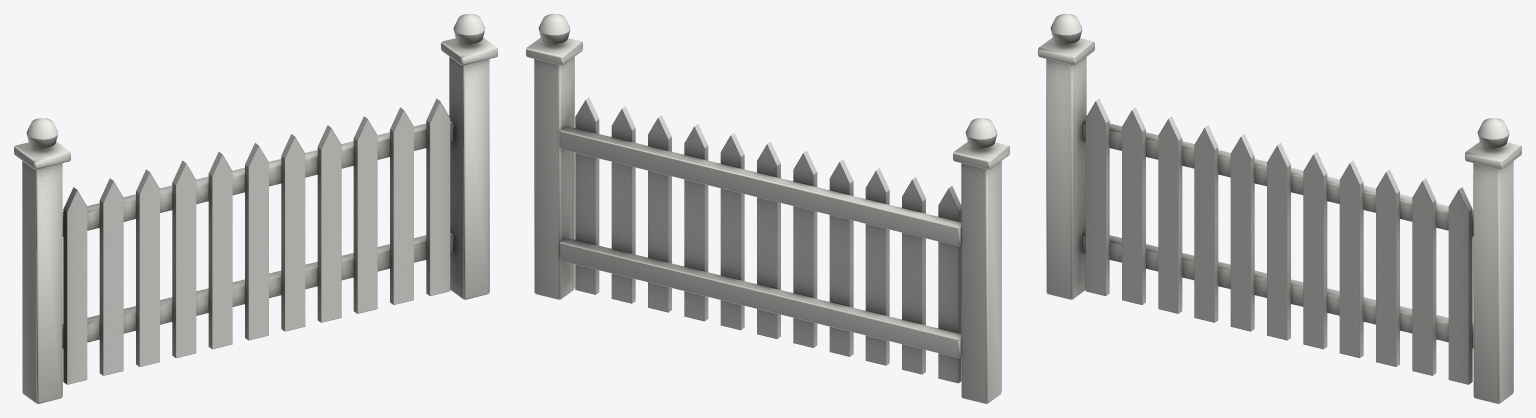
The model's file is WFPicketFence.fbx.
3 views of the same model, side by side, from view 1: azimuth 30°, elevation 25°; view 2: azimuth 150°, elevation 25°; view 3: azimuth 330°, elevation 25° (orthographic).
Parts seen in each view (by area): view 1: WFPicketFence; view 2: WFPicketFence; view 3: WFPicketFence.
Part boxes in pixels (x1,y1,x2,y2): WFPicketFence: (14,14,497,403); WFPicketFence: (526,14,1009,403); WFPicketFence: (1038,14,1521,403).
Bounding box in the file's own units: 870 × 498 × 70.
